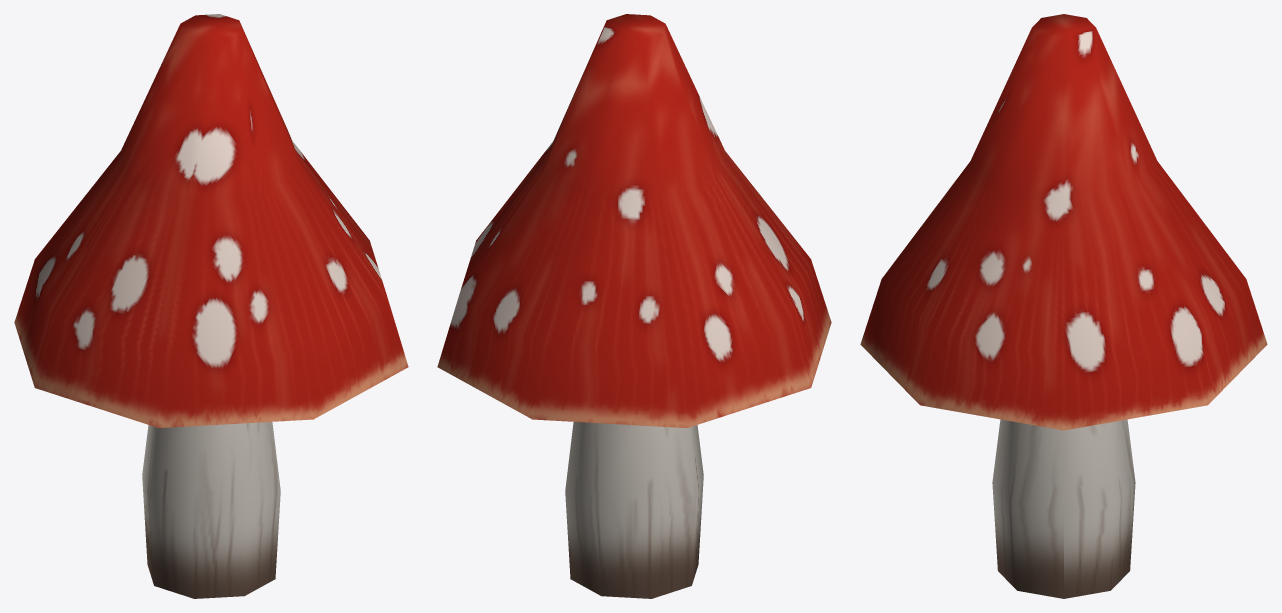
Rendered from Mushooom2.FBX.
3 views of the same model, side by side, from view 1: azimuth 30°, elevation 25°; view 2: azimuth 150°, elevation 25°; view 3: azimuth 270°, elevation 25° (orthographic).
Parts seen in each view (by area): view 1: mushroom2; view 2: mushroom2; view 3: mushroom2.
Part boxes in pixels (<box>): mushroom2: <box>14,14,408,598</box>; mushroom2: <box>437,14,831,598</box>; mushroom2: <box>860,14,1267,598</box>.
Bounding box in the file's own units: 17.19 × 25.32 × 17.19.
